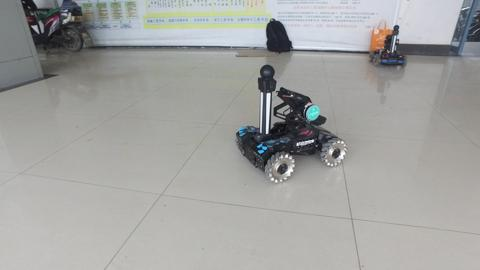bag: (263, 16, 296, 55), (368, 17, 392, 51)
chariot: (233, 63, 348, 184), (366, 24, 407, 69)
